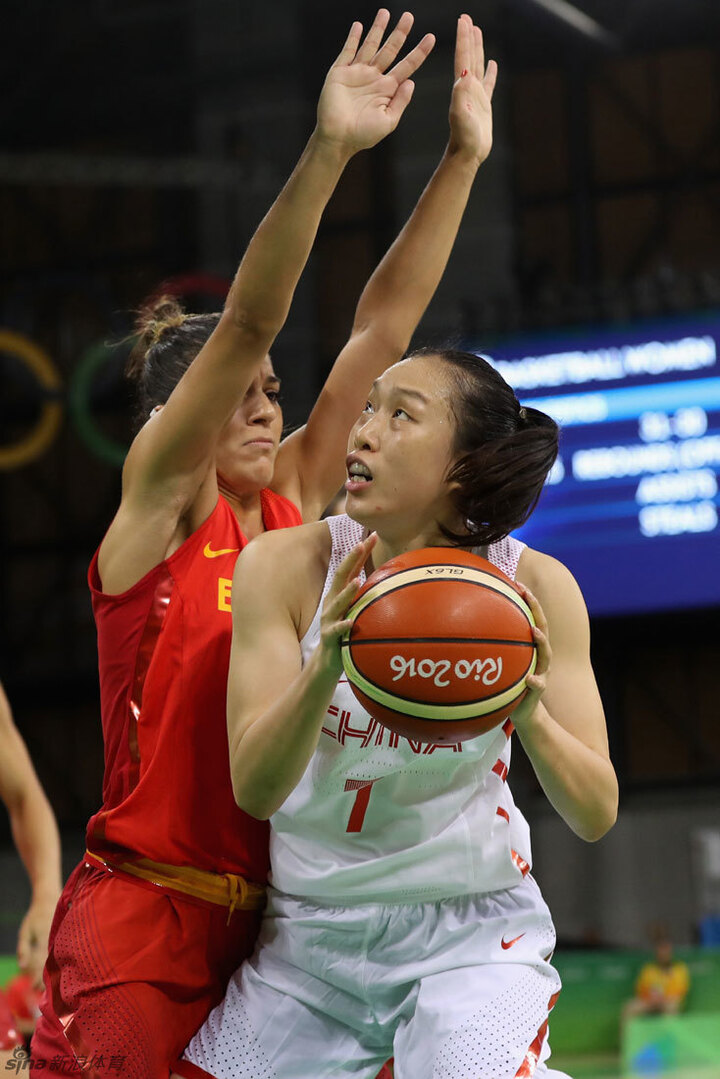ball: (342, 546, 541, 744)
